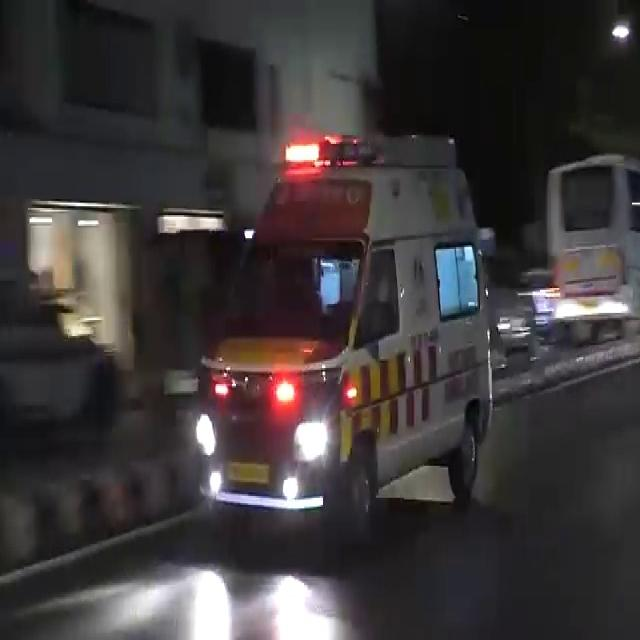ambulance: (195, 160, 503, 508)
